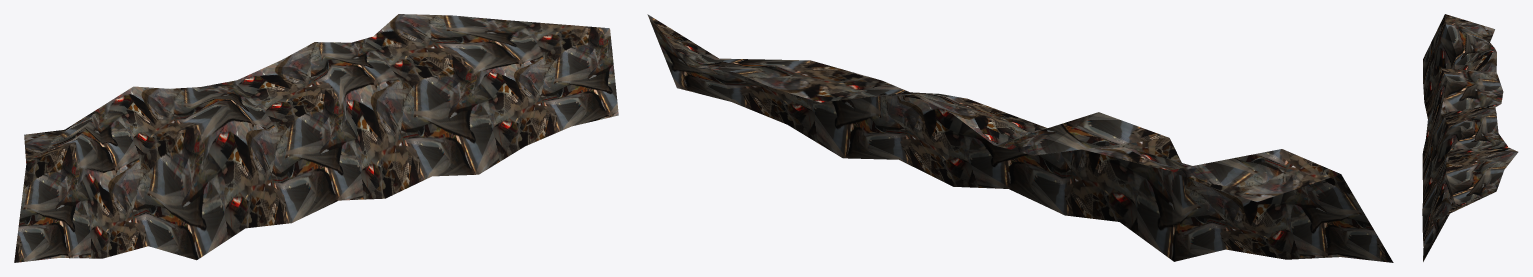
Rendered from gomiWall.fbx.
3 renders of one model, left to right at view 1: azimuth 30°, elevation 25°; view 2: azimuth 150°, elevation 25°; view 3: azimuth 270°, elevation 25°, orthographic. The views are drawn at different scales.
Parts seen in each view (by area): view 1: Cube; view 2: Cube; view 3: Cube.
Boxes of the visible parts, box(x1,y1,x2,y2) form: Cube: box(14, 14, 618, 262); Cube: box(647, 14, 1393, 262); Cube: box(1422, 14, 1518, 261).
Bounding box in the file's own units: 1747 × 378 × 345.
